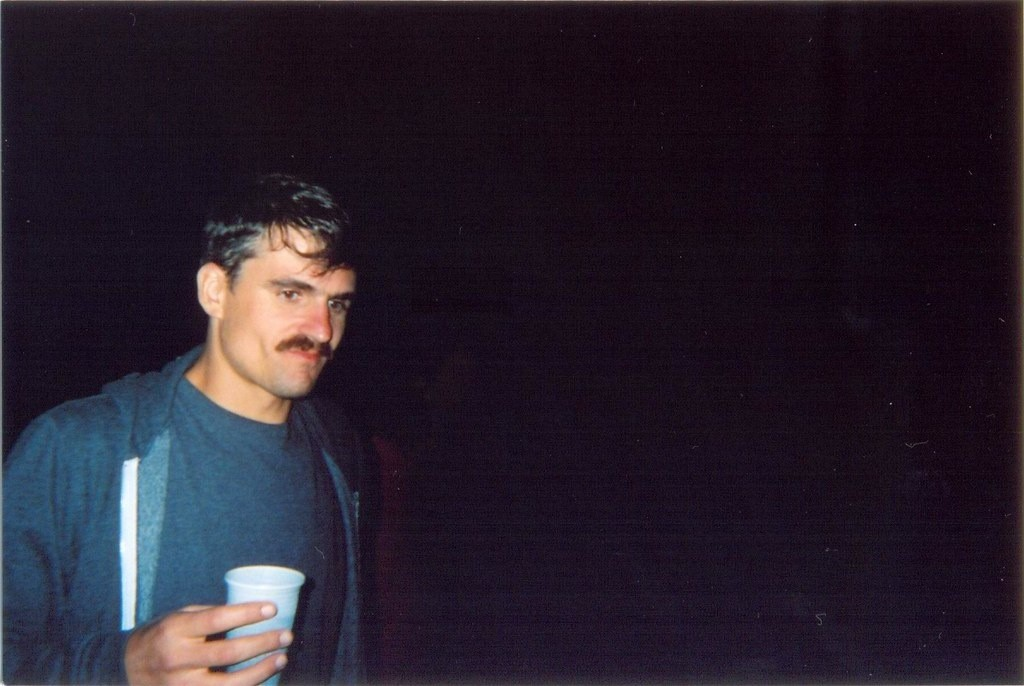face_no_mask: (198, 172, 353, 400)
